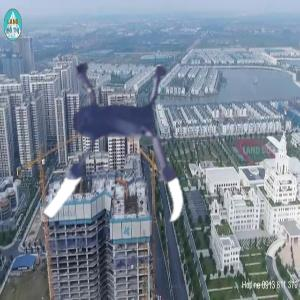drone: (3, 34, 218, 249)
